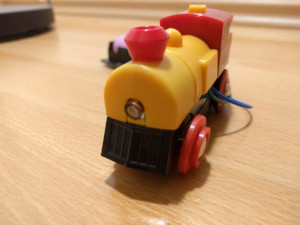brio: (104, 2, 234, 177)
